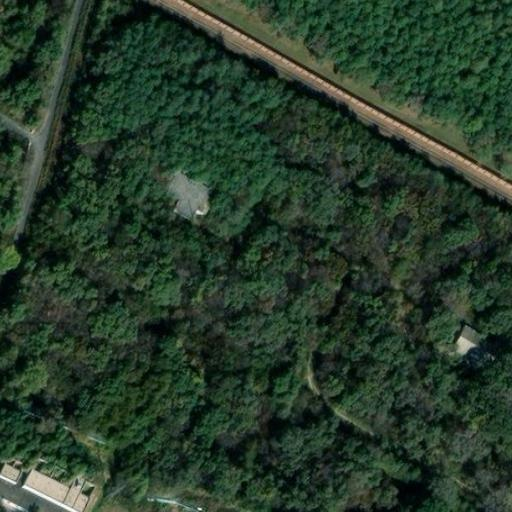building: (0, 458, 88, 512), (164, 174, 213, 226), (458, 326, 496, 355)
